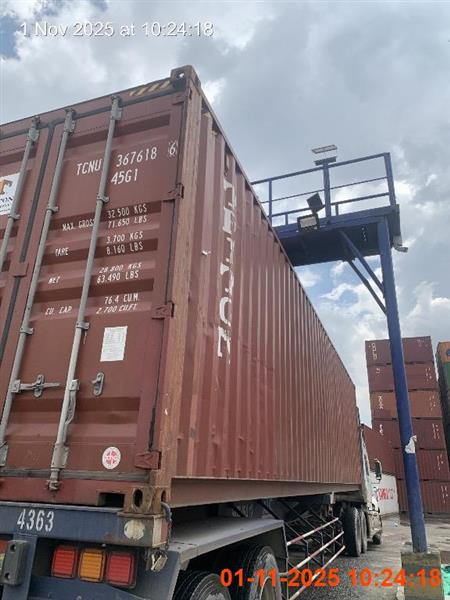scratch: (1, 65, 403, 599)
